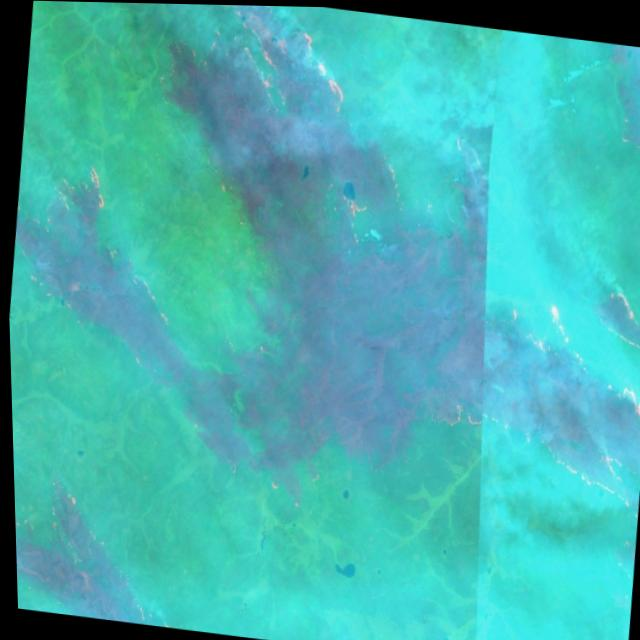fire: (488, 224, 640, 507), (156, 3, 357, 141), (15, 138, 139, 322), (10, 442, 136, 621), (224, 441, 325, 517), (324, 176, 380, 254)
